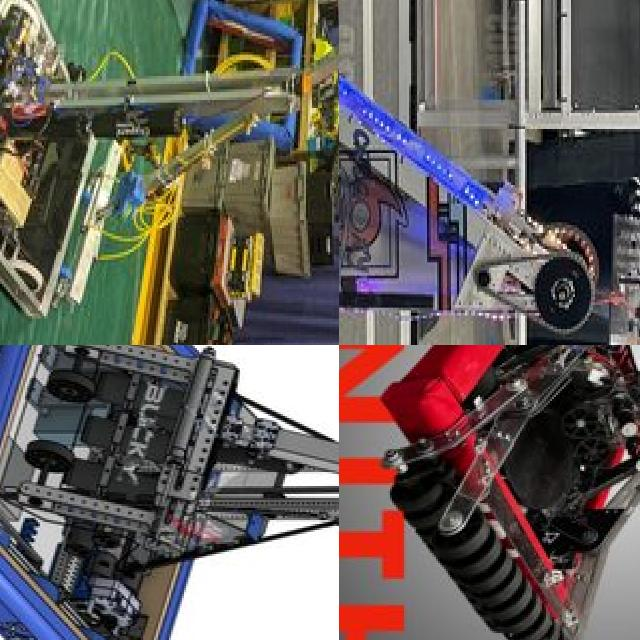FRC-Robots: (0, 0, 339, 326), (0, 345, 339, 640), (339, 0, 624, 345), (339, 345, 640, 640)
